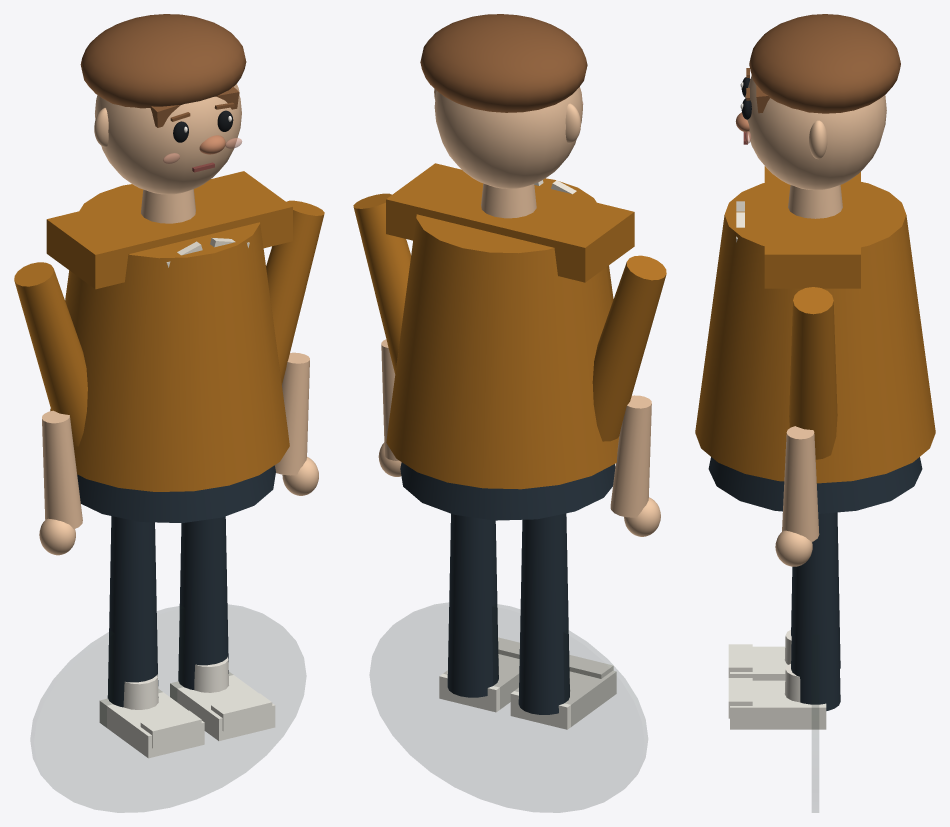
The model's file is customer_04.glb.
3 views of the same model, side by side, from view 1: azimuth 30°, elevation 25°; view 2: azimuth 150°, elevation 25°; view 3: azimuth 270°, elevation 25° (orthographic). The views are drawn at different scales.
Parts seen in each view (by area): view 1: torso, contact_shadow, shoulder_line, hair_cap, head, leg_-0.075, leg_0.075, upper_arm_-0.235, hip, upper_arm_0.235, forearm_-0.235, shoe_-0.075 (+9 smaller); view 2: torso, contact_shadow, hair_cap, shoulder_line, leg_-0.075, head, leg_0.075, upper_arm_-0.235, hip, upper_arm_0.235, forearm_-0.235, shoe_-0.075 (+5 smaller); view 3: torso, hair_cap, head, shoulder_line, leg_0.075, upper_arm_0.235, hip, forearm_0.235, shoe_0.075, neck, shoe_-0.075, contact_shadow (+5 smaller).
Part boxes in pixels (left/top/right/bottom): torso: left=50, top=184, right=289, bottom=491; contact_shadow: left=31, top=605, right=305, bottom=812; shoulder_line: left=46, top=171, right=292, bottom=289; hair_cap: left=80, top=14, right=246, bottom=108; head: left=95, top=84, right=241, bottom=194; leg_-0.075: left=107, top=516, right=158, bottom=707; leg_0.075: left=178, top=516, right=228, bottom=689; upper_arm_-0.235: left=14, top=262, right=87, bottom=446; hip: left=77, top=465, right=275, bottom=523; upper_arm_0.235: left=266, top=200, right=324, bottom=384; forearm_-0.235: left=42, top=410, right=82, bottom=529; shoe_-0.075: left=99, top=689, right=204, bottom=758; torso: left=386, top=178, right=619, bottom=489; contact_shadow: left=370, top=603, right=647, bottom=812; hair_cap: left=420, top=14, right=587, bottom=112; shoulder_line: left=386, top=163, right=634, bottom=282; leg_-0.075: left=518, top=513, right=569, bottom=714; head: left=434, top=87, right=582, bottom=188; leg_0.075: left=447, top=513, right=498, bottom=697; upper_arm_-0.235: left=592, top=255, right=666, bottom=441; hip: left=400, top=462, right=615, bottom=520; upper_arm_0.235: left=353, top=193, right=410, bottom=373; forearm_-0.235: left=610, top=395, right=651, bottom=517; shoe_-0.075: left=510, top=670, right=616, bottom=729; torso: left=695, top=182, right=935, bottom=483; hair_cap: left=749, top=14, right=900, bottom=113; head: left=745, top=75, right=886, bottom=190; shoulder_line: left=764, top=166, right=860, bottom=288; leg_0.075: left=791, top=512, right=840, bottom=710; upper_arm_0.235: left=789, top=287, right=837, bottom=459; hip: left=708, top=457, right=922, bottom=513; forearm_0.235: left=782, top=426, right=819, bottom=541; shoe_0.075: left=730, top=680, right=826, bottom=729; neck: left=788, top=185, right=842, bottom=218; shoe_-0.075: left=730, top=646, right=787, bottom=680; contact_shadow: left=812, top=635, right=818, bottom=812.
Size of the model in its own units: 0.662 by 1.61 by 0.459.
